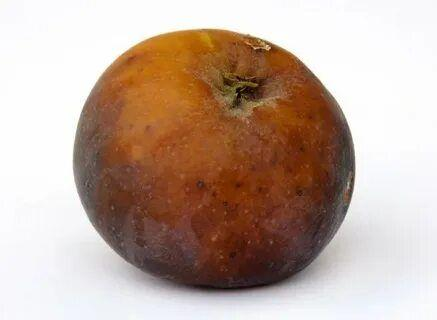Apple: (73, 31, 356, 289)
